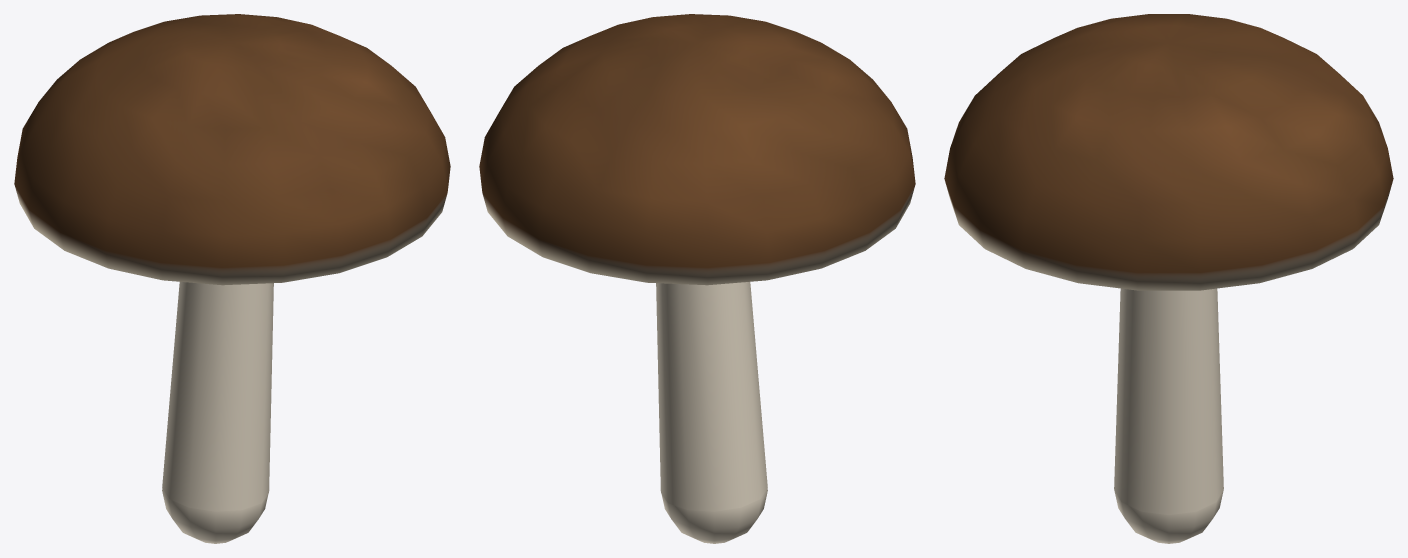
The model's file is MushroomBrown.glb.
3 views of the same model, side by side, from view 1: azimuth 30°, elevation 25°; view 2: azimuth 150°, elevation 25°; view 3: azimuth 270°, elevation 25° (orthographic). The views are drawn at different scales.
Visible parts, largest first — view 1: Cap, Stalk; view 2: Cap, Stalk; view 3: Cap, Stalk.
Boxes of the visible parts, x1=… form: Cap: x1=14, y1=14, x2=450, y2=285; Stalk: x1=162, y1=282, x2=273, y2=543; Cap: x1=479, y1=14, x2=915, y2=285; Stalk: x1=656, y1=282, x2=767, y2=543; Cap: x1=944, y1=14, x2=1393, y2=290; Stalk: x1=1114, y1=288, x2=1223, y2=543.
Bounding box in the file's own units: 0.0891 × 0.1115 × 0.09.
